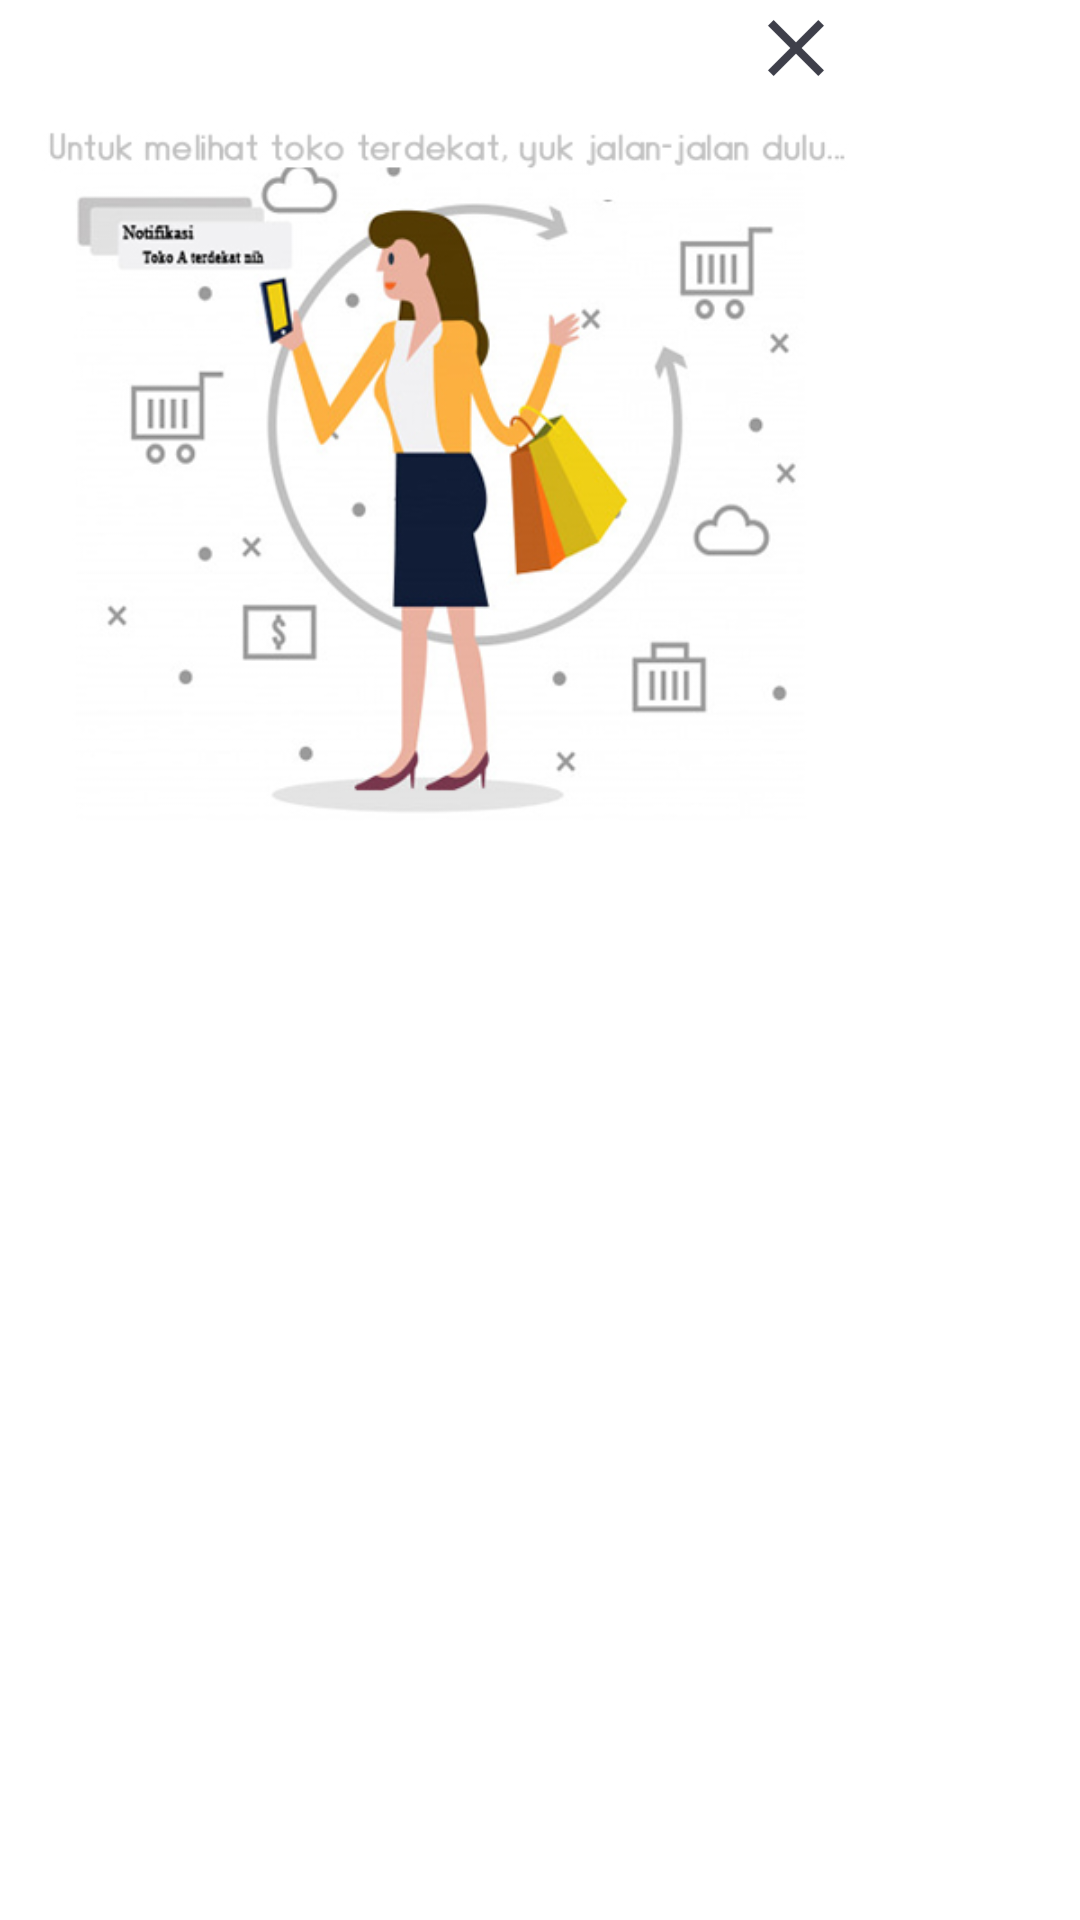

Icon bounding boxes for this 1080x1920 phone screenshot, format (x1, y1, x2, y2):
close: (768, 20, 824, 76)
